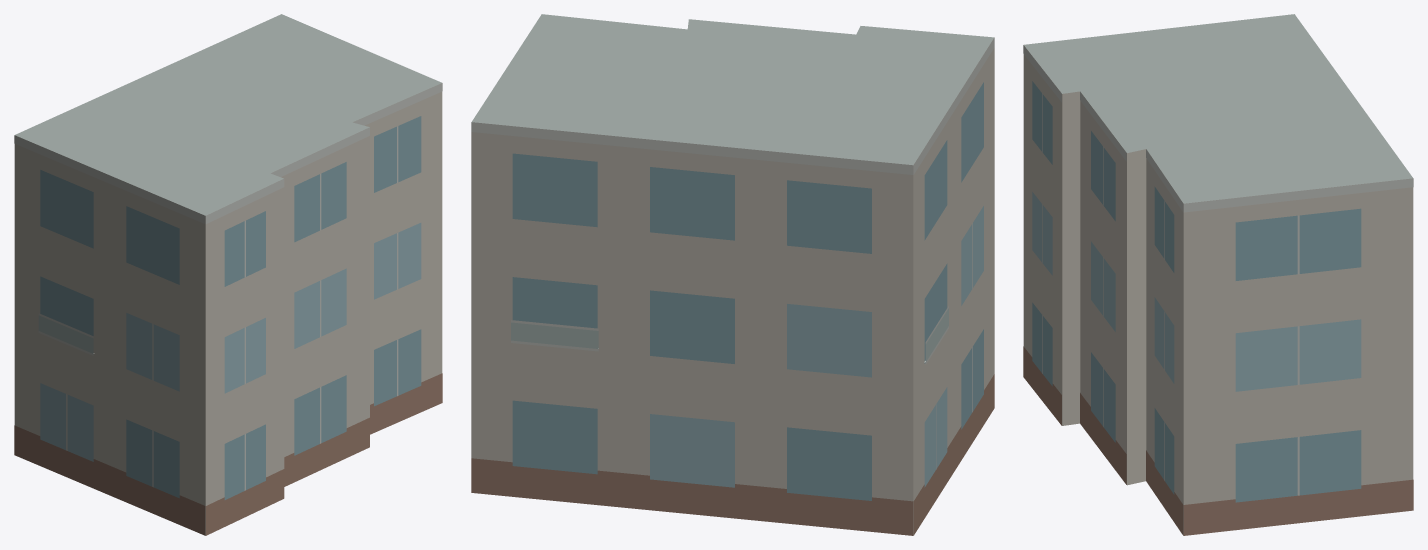
File: survey-upis-32781377.glb
The picture shows the model from 3 angles, left to right: view 1: azimuth 30°, elevation 25°; view 2: azimuth 150°, elevation 25°; view 3: azimuth 270°, elevation 25°; orthographic projection. The views are drawn at different scales.
Parts seen in each view (by area): view 1: survey-upis-32781377.tmp; view 2: survey-upis-32781377.tmp; view 3: survey-upis-32781377.tmp.
Part boxes in pixels (x1,y1,x2,y2): survey-upis-32781377.tmp: [14, 14, 442, 535]; survey-upis-32781377.tmp: [471, 14, 994, 535]; survey-upis-32781377.tmp: [1023, 14, 1413, 535].
Bounding box in the file's own units: 11.22 × 9.15 × 9.75.
